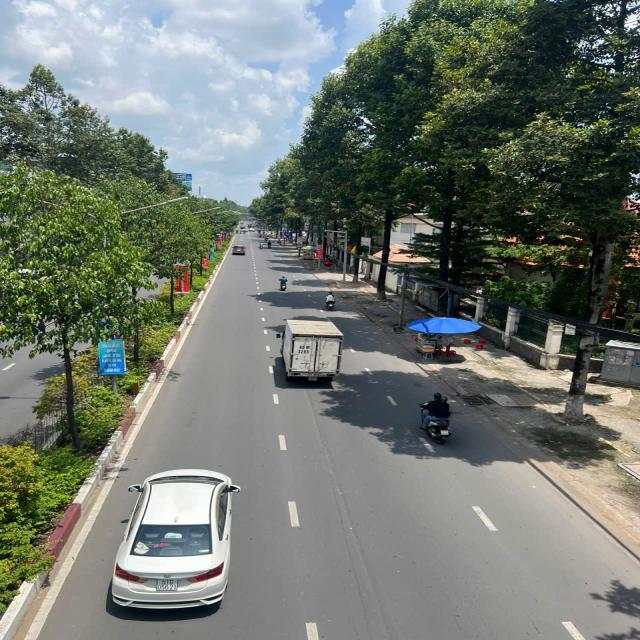ben: (279, 316, 344, 384)
car: (106, 468, 241, 614), (231, 242, 247, 258)
motobyte: (415, 388, 462, 447), (323, 287, 338, 312), (277, 271, 291, 295)
